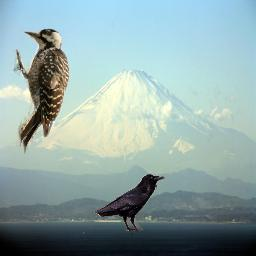Crow: (93, 172, 165, 231)
Woodpecker: (12, 25, 70, 155)
